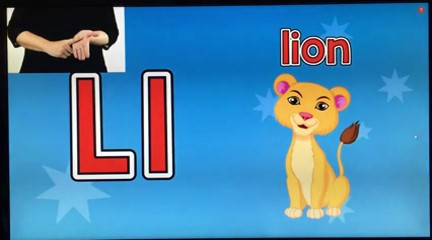L: (42, 25, 110, 66)
